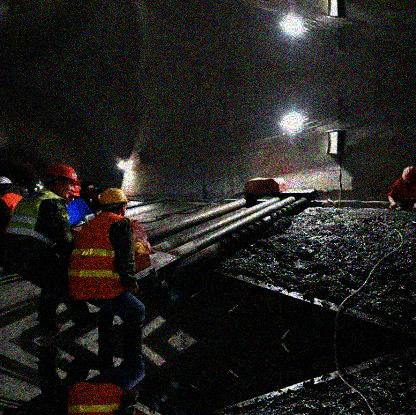helmet: (41, 163, 77, 201), (98, 188, 129, 216), (402, 166, 416, 185)
